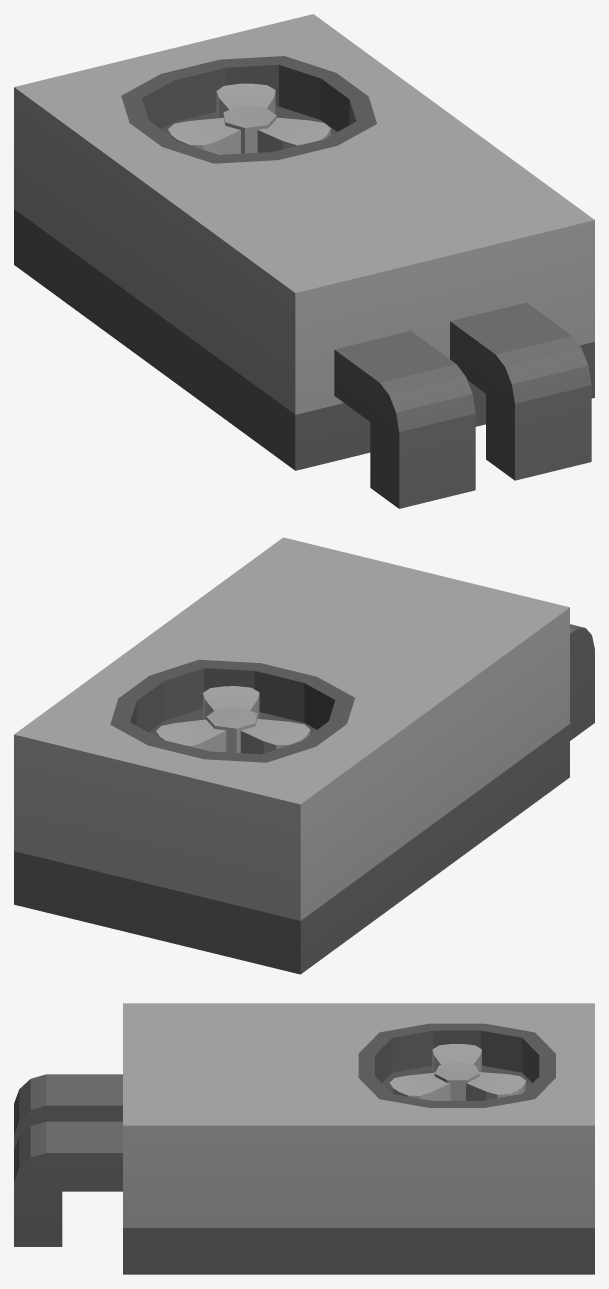
File: exhaust fan 2.fbx
The picture shows the model from 3 angles, top to bottom: view 1: azimuth 30°, elevation 25°; view 2: azimuth 150°, elevation 25°; view 3: azimuth 270°, elevation 25°; orthographic projection. The views are drawn at different scales.
Parts seen in each view (by area): view 1: exhaust fan 2; view 2: exhaust fan 2; view 3: exhaust fan 2.
Part boxes in pixels (x1,y1,x2,y2): exhaust fan 2: [14, 14, 594, 508]; exhaust fan 2: [14, 537, 594, 974]; exhaust fan 2: [14, 1003, 594, 1274].
Size of the model in its own units: 117 by 66.14 by 234.
